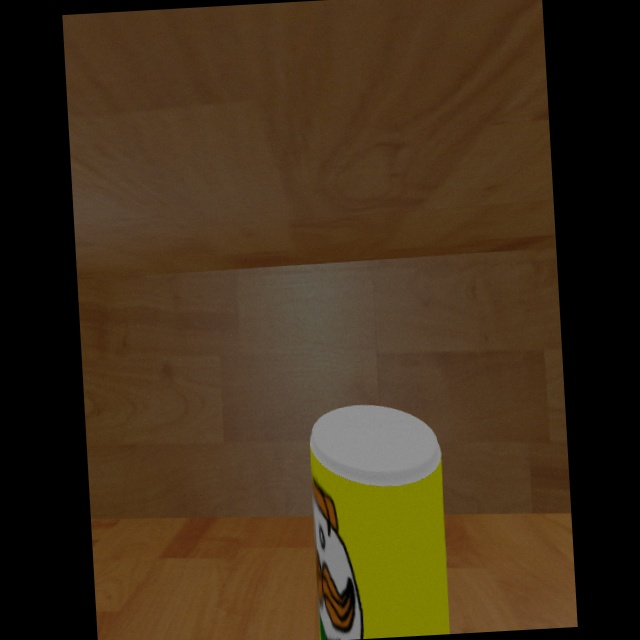chipsdose_gelb: (310, 404, 451, 640)
